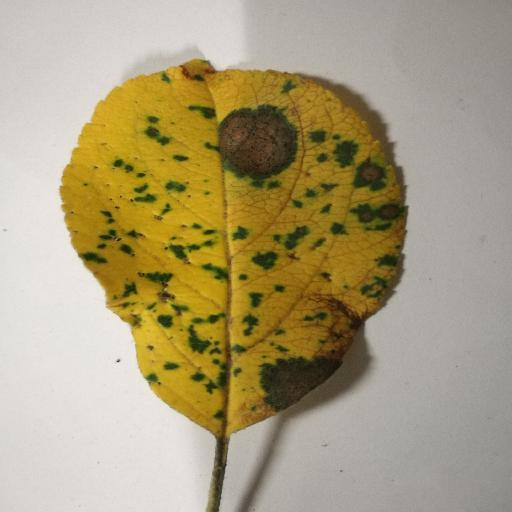Brown_Spot: (222, 114, 281, 171), (265, 357, 340, 401), (305, 297, 354, 333), (355, 203, 407, 222), (359, 164, 383, 187)
